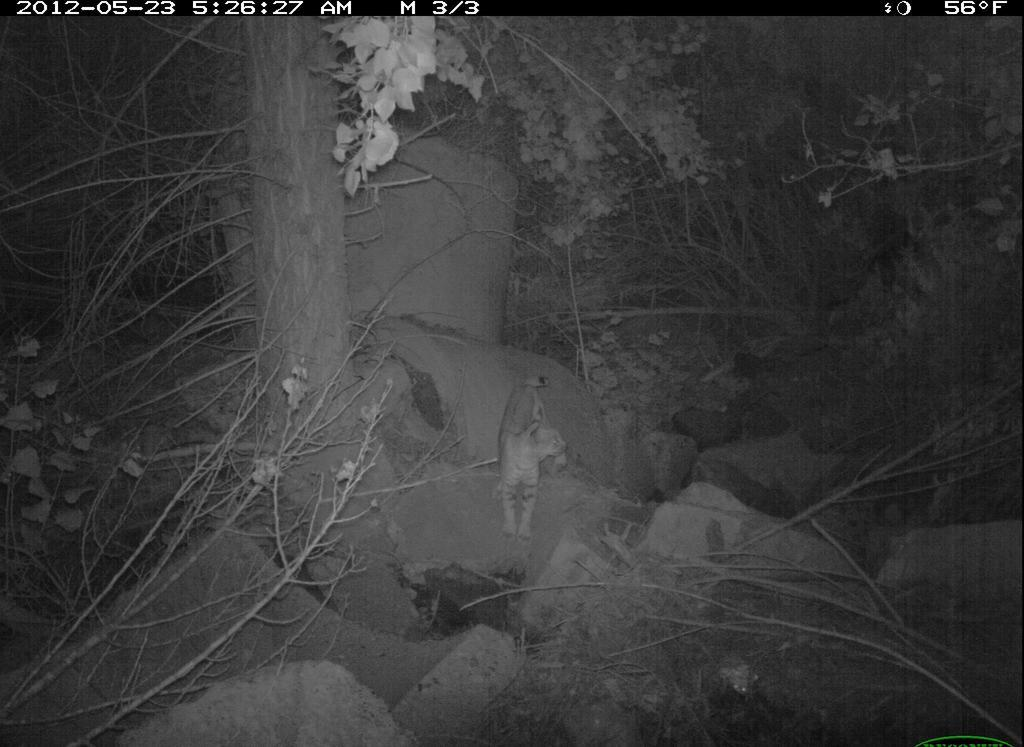bobcat: (482, 368, 569, 550)
